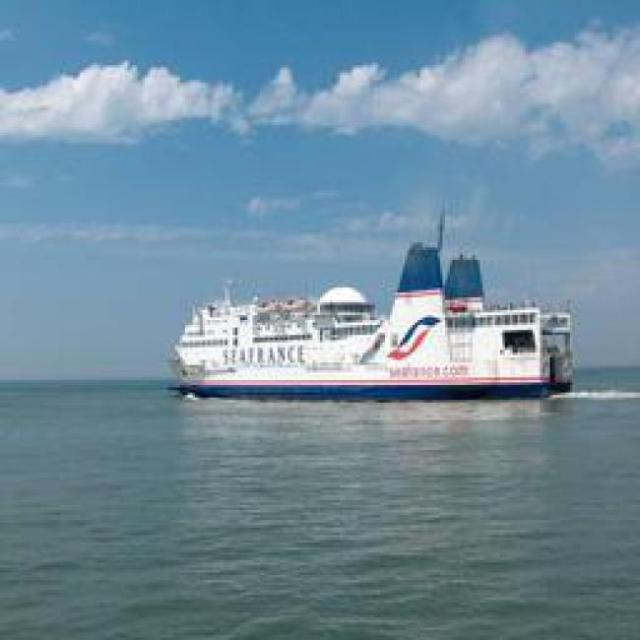boat: (139, 286, 596, 414)
